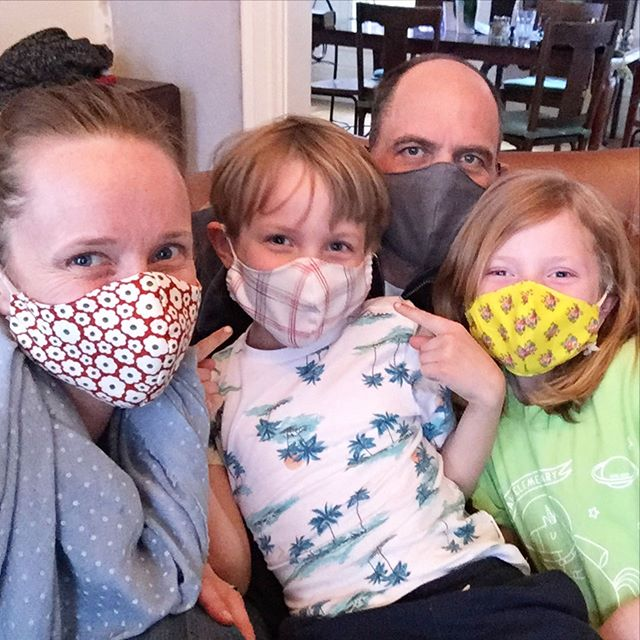homemade: (3, 280, 232, 423), (222, 250, 405, 356), (458, 282, 616, 377), (366, 164, 484, 266), (364, 162, 482, 264)
